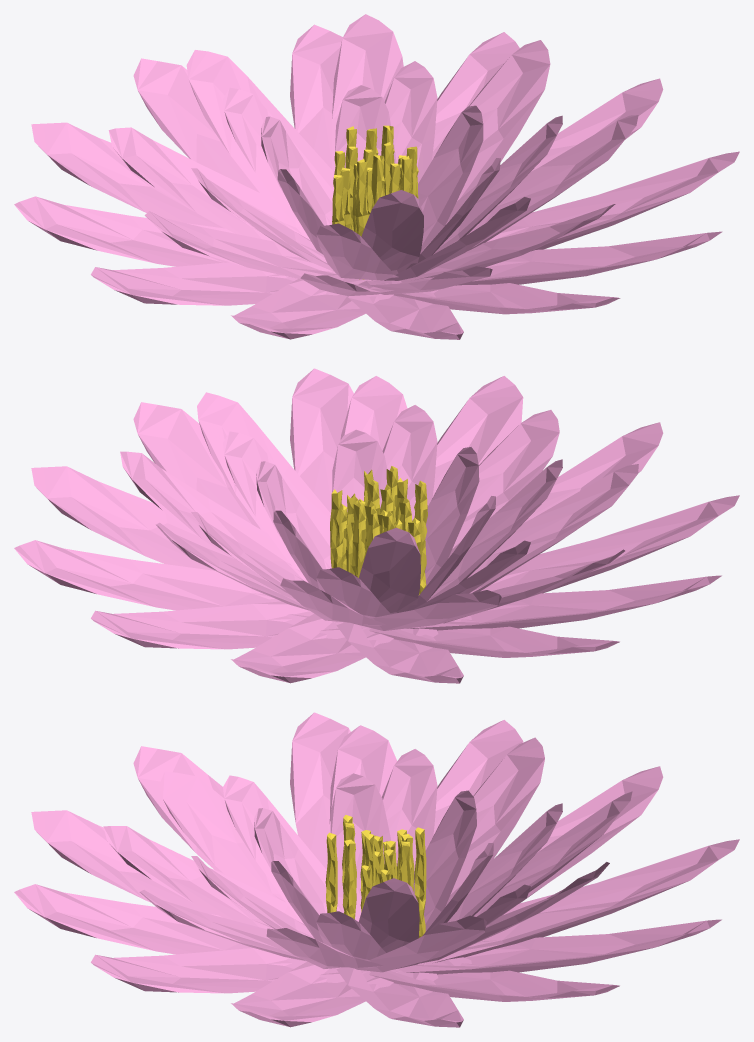
File: stm_env_LilyPadFlowers.fbx
3 views of the same model, one above another, from view 1: azimuth 30°, elevation 25°; view 2: azimuth 150°, elevation 25°; view 3: azimuth 270°, elevation 25° (orthographic).
Parts seen in each view (by area): view 1: Water_Flower; view 2: Water_Flower; view 3: Water_Flower.
Boxes of the visible parts, x1,y1,x2,y2 form: Water_Flower: (14, 14, 739, 339); Water_Flower: (14, 368, 739, 683); Water_Flower: (14, 712, 739, 1027).
Bounding box in the file's own units: 760 × 179 × 760.
